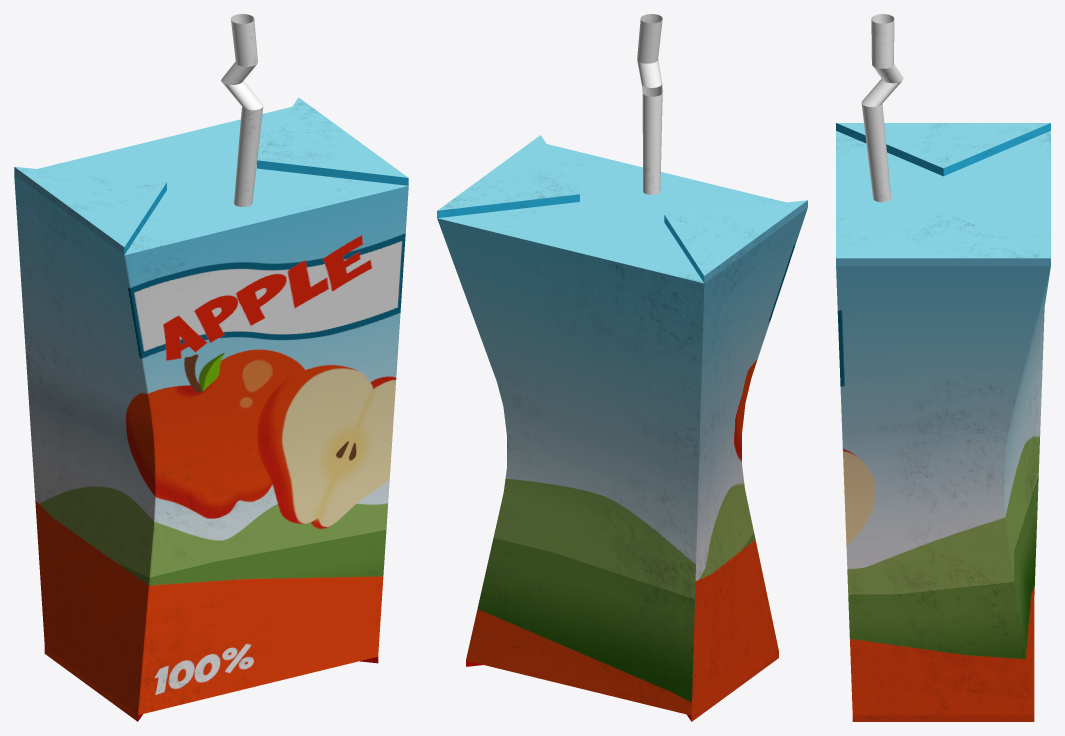
File: 사과주스팩.fbx
3 renders of one model, left to right at view 1: azimuth 30°, elevation 25°; view 2: azimuth 150°, elevation 25°; view 3: azimuth 270°, elevation 25°, orthographic. The views are drawn at different scales.
Visible parts, largest first — view 1: 주스팩1; view 2: 주스팩1; view 3: 주스팩1.
Part boxes in pixels (x1,y1,x2,y2): 주스팩1: (14,14,408,721); 주스팩1: (437,14,807,721); 주스팩1: (836,14,1050,721).
Bounding box in the file's own units: 237 × 527 × 159.
Materials: 1 (1 with a texture image).
